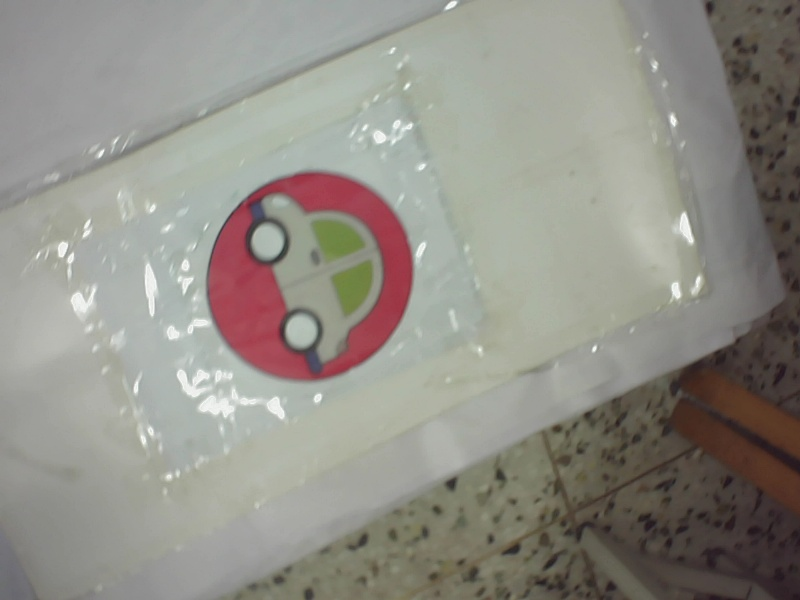areaC: (197, 169, 422, 384)
